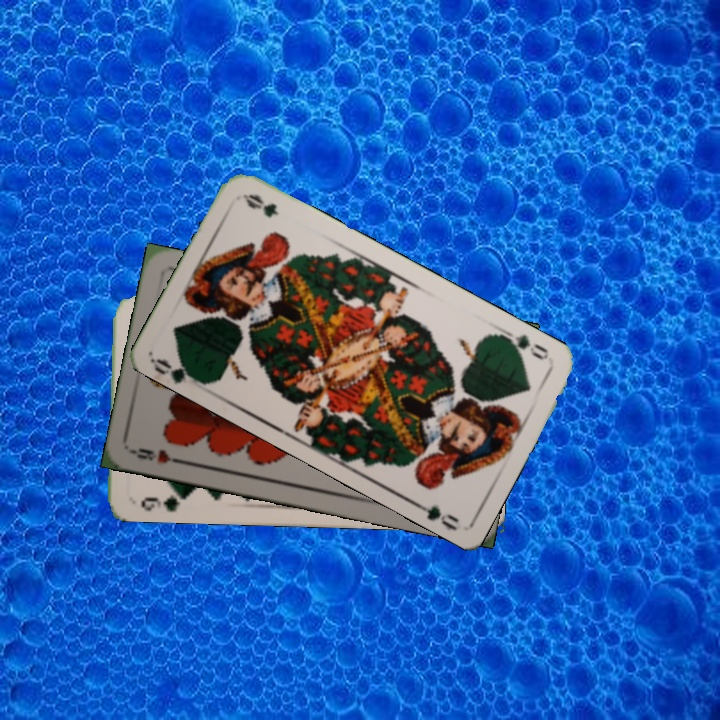G9: (137, 487, 189, 514)
GO: (150, 354, 209, 388), (498, 326, 552, 363)
H9: (129, 443, 188, 467)
